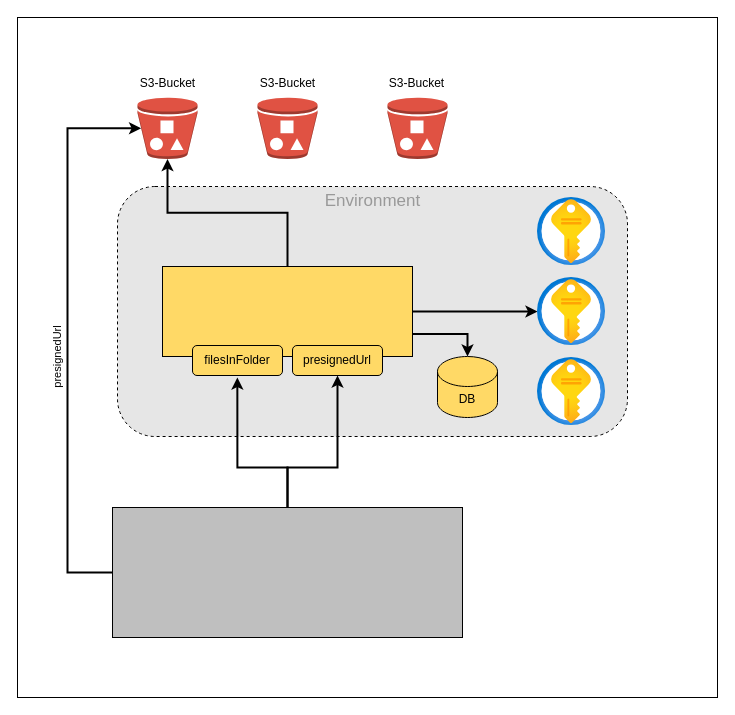
This 735x715 diagram has some shape labels left out. Here are the shapes that lost their labels. From the top down, the centre of each, then its label:
the point at 287,311: S3-EAI
the point at 287,572: Application
